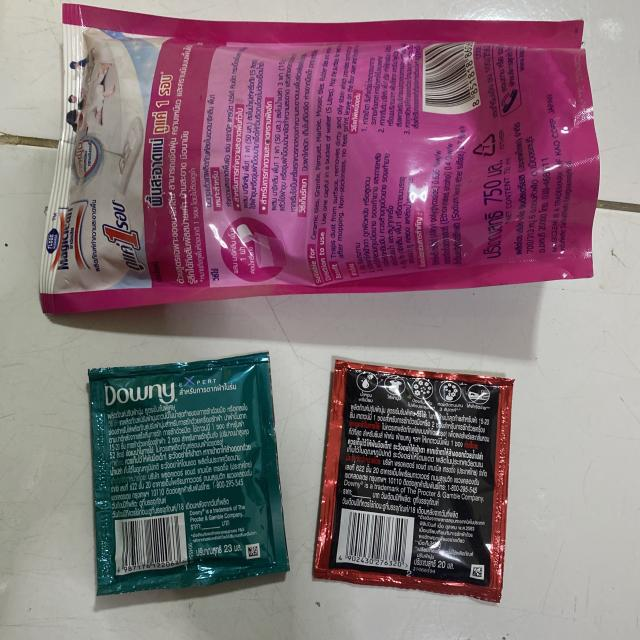plastik: (40, 4, 599, 314), (89, 352, 289, 595), (314, 360, 512, 601)
